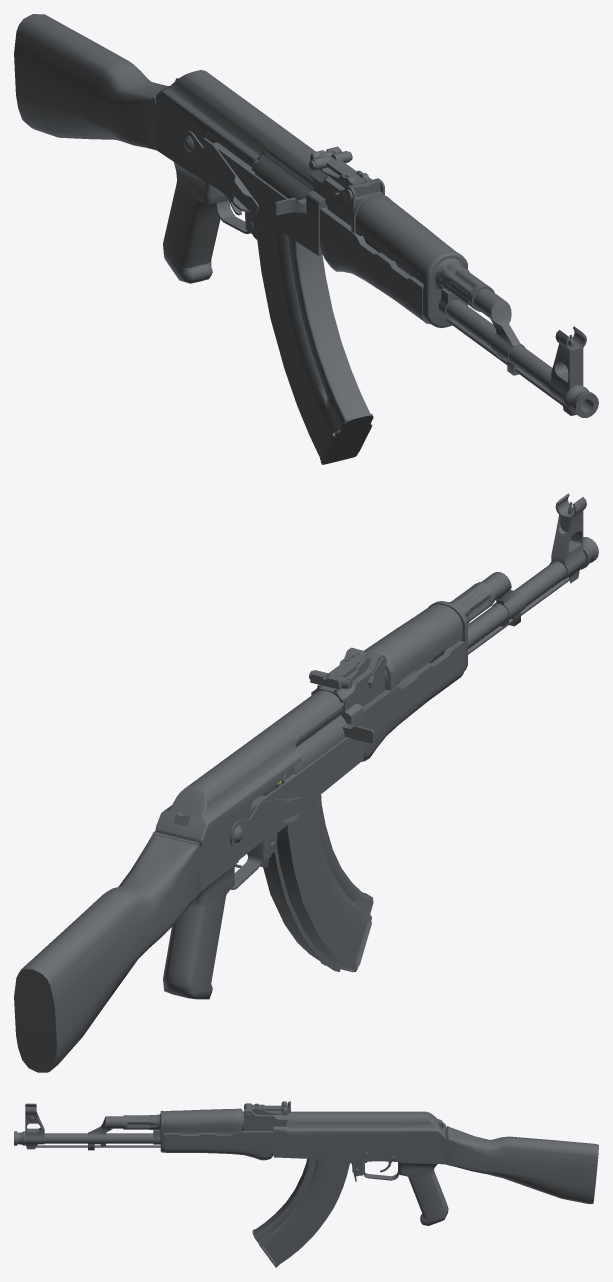
3 views of the same model, one above another, from view 1: azimuth 30°, elevation 25°; view 2: azimuth 150°, elevation 25°; view 3: azimuth 270°, elevation 25° (orthographic). The views are drawn at different scales.
Visible parts, largest first — view 1: SM_KA47; view 2: SM_KA47; view 3: SM_KA47.
Boxes of the visible parts, x1,y1,x2,y2 form: SM_KA47: (14,14,598,464); SM_KA47: (14,493,598,1072); SM_KA47: (14,1101,598,1267).
Size of the model in its own units: 6.67 by 26.5 by 87.92.
Materials: 2 (2 with a texture image).
